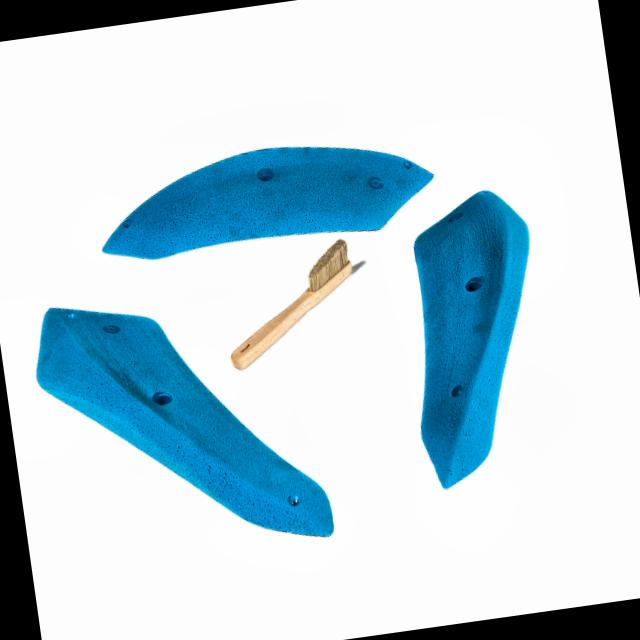Hold: (19, 295, 349, 555), (93, 126, 445, 274), (398, 171, 541, 513)
